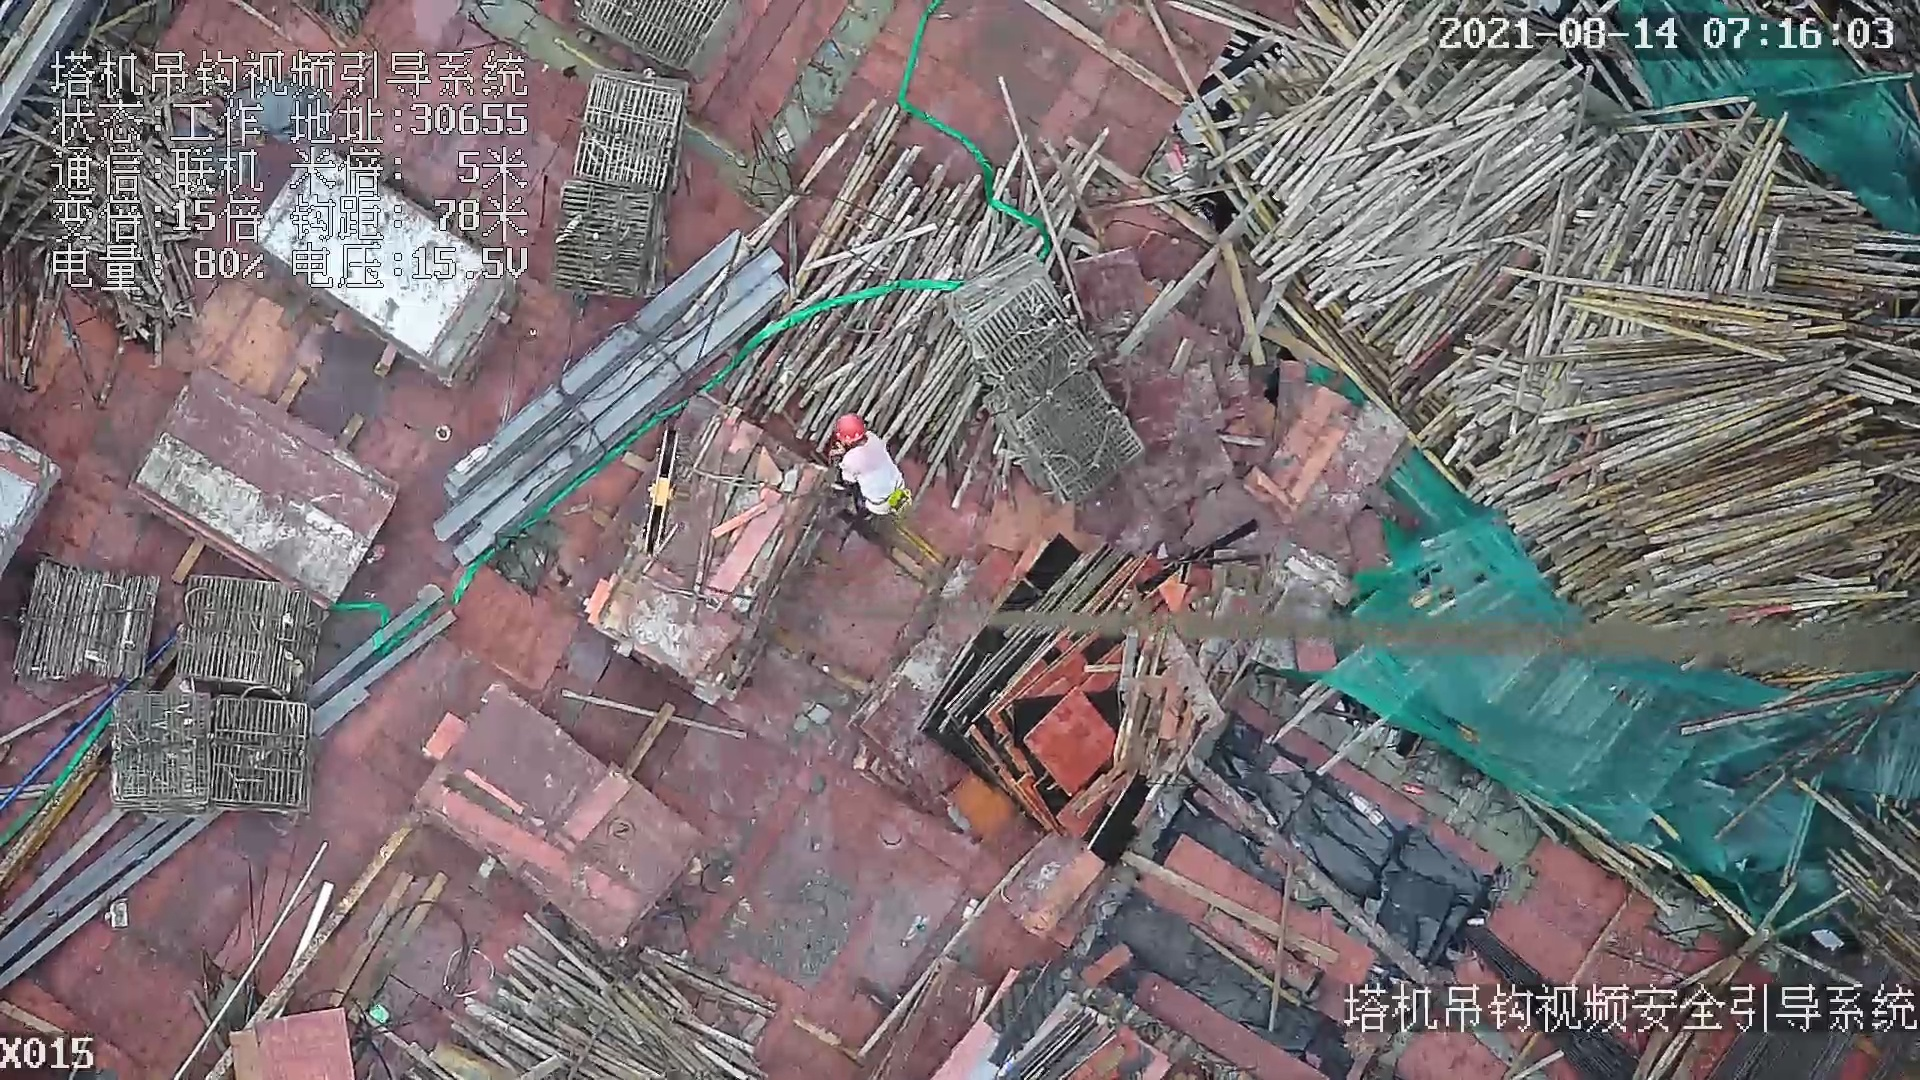helmet: (829, 412, 869, 443)
hook: (636, 421, 683, 556)
person: (828, 409, 917, 523)
